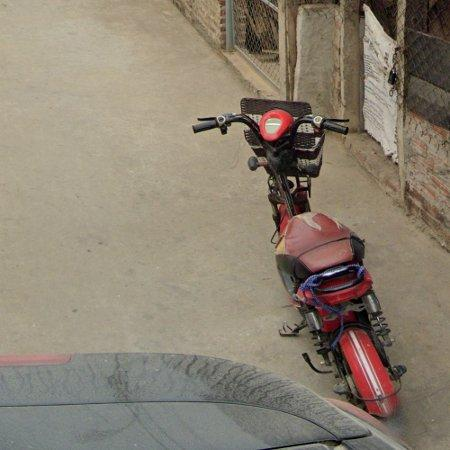motorcycles: (192, 97, 409, 418)
